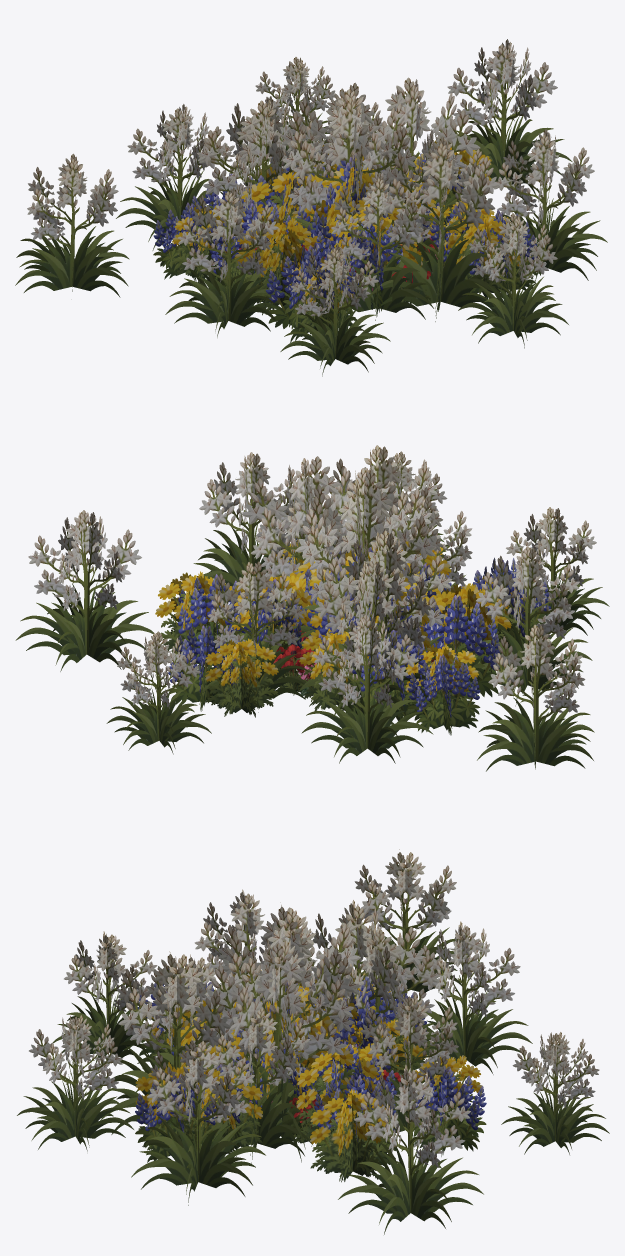
File: flores.glb
The picture shows the model from 3 angles, top to bottom: view 1: azimuth 30°, elevation 25°; view 2: azimuth 150°, elevation 25°; view 3: azimuth 270°, elevation 25°; orthographic projection. The views are drawn at different scales.
Parts seen in each view (by area): view 1: Flor_Asfodelo_Mancha, Flor_Asfodelo_Touceira, Flor_Margarida_Mancha, Flor_Tremoco_Mancha, Flor_Asfodelo_Tufo, Flor_Tremoco_Touceira, Flor_Margarida_Touceira, Flor_Margarida_Tufo; view 2: Flor_Asfodelo_Mancha, Flor_Tremoco_Mancha, Flor_Margarida_Mancha, Flor_Asfodelo_Touceira, Flor_Asfodelo_Tufo, Flor_Margarida_Touceira, Flor_Anemona_Mancha, Flor_Tremoco_Touceira; view 3: Flor_Asfodelo_Mancha, Flor_Asfodelo_Touceira, Flor_Margarida_Mancha, Flor_Tremoco_Mancha, Flor_Asfodelo_Tufo, Flor_Tremoco_Touceira, Flor_Margarida_Touceira.
Part boxes in pixels (<box>): Flor_Asfodelo_Mancha: <box>15,39,607,376</box>; Flor_Asfodelo_Touceira: <box>198,82,488,324</box>; Flor_Margarida_Mancha: <box>172,140,520,334</box>; Flor_Tremoco_Mancha: <box>153,139,537,342</box>; Flor_Asfodelo_Tufo: <box>281,90,414,243</box>; Flor_Tremoco_Touceira: <box>270,155,439,303</box>; Flor_Margarida_Touceira: <box>277,159,435,259</box>; Flor_Margarida_Tufo: <box>291,165,382,244</box>; Flor_Asfodelo_Mancha: <box>15,445,609,771</box>; Flor_Tremoco_Mancha: <box>168,538,550,735</box>; Flor_Margarida_Mancha: <box>155,539,525,718</box>; Flor_Asfodelo_Touceira: <box>251,468,472,720</box>; Flor_Asfodelo_Tufo: <box>295,479,436,675</box>; Flor_Margarida_Touceira: <box>279,551,441,664</box>; Flor_Anemona_Mancha: <box>273,626,444,695</box>; Flor_Tremoco_Touceira: <box>295,544,463,651</box>; Flor_Asfodelo_Mancha: <box>17,849,609,1234</box>; Flor_Asfodelo_Touceira: <box>136,902,450,1163</box>; Flor_Margarida_Mancha: <box>135,970,483,1182</box>; Flor_Tremoco_Mancha: <box>135,968,486,1174</box>; Flor_Asfodelo_Tufo: <box>222,915,360,1044</box>; Flor_Tremoco_Touceira: <box>201,982,392,1141</box>; Flor_Margarida_Touceira: <box>199,989,372,1126</box>.
Size of the model in its own units: 3.03 by 0.9973 by 2.7.
Materials: 1 (1 with a texture image).
